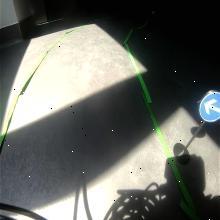left: (199, 89, 220, 123)
